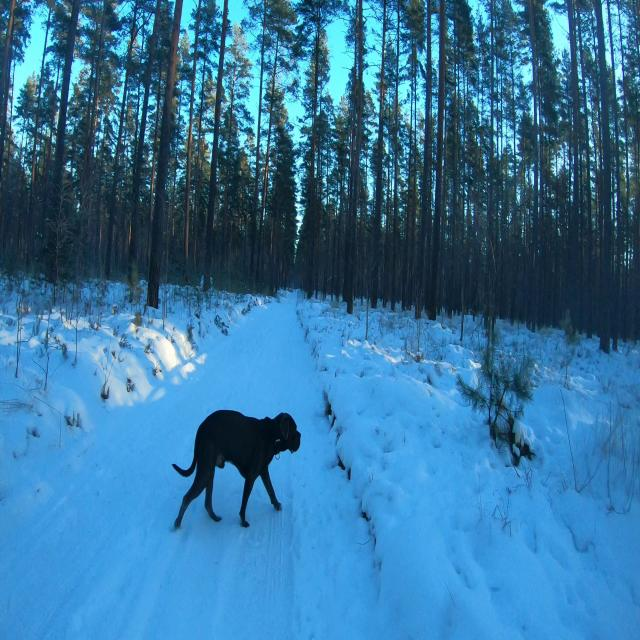bush: (456, 342, 535, 466), (61, 178, 92, 314), (3, 250, 56, 295), (164, 263, 189, 312), (16, 291, 23, 377)
trees: (298, 0, 341, 298), (147, 0, 182, 308), (128, 0, 161, 279), (105, 0, 138, 278), (47, 0, 80, 257), (592, 0, 613, 353), (204, 0, 228, 291), (255, 31, 280, 277), (404, 0, 424, 307), (428, 0, 447, 320), (607, 0, 624, 335), (29, 0, 54, 217), (249, 0, 267, 280), (566, 0, 583, 284), (348, 0, 363, 320), (344, 0, 359, 313), (371, 0, 386, 308), (184, 0, 201, 268), (219, 51, 240, 264), (420, 0, 431, 308), (85, 3, 106, 157), (0, 0, 16, 191), (618, 9, 631, 224), (391, 0, 400, 310), (528, 0, 539, 251), (488, 0, 497, 245), (195, 39, 208, 202), (172, 71, 183, 219), (450, 88, 459, 223), (510, 40, 517, 175), (457, 190, 464, 307), (461, 52, 468, 162), (244, 152, 251, 255), (500, 156, 508, 240), (9, 60, 16, 136), (494, 91, 502, 151), (454, 57, 460, 137), (364, 154, 368, 231), (458, 17, 471, 40), (480, 90, 484, 151), (19, 128, 24, 167), (454, 17, 458, 56), (365, 299, 368, 340), (555, 141, 558, 178), (241, 184, 243, 232), (524, 156, 525, 244), (326, 169, 328, 207), (456, 140, 461, 154), (86, 158, 92, 168), (463, 165, 467, 179), (453, 0, 456, 14), (496, 78, 499, 89), (7, 141, 10, 151), (496, 57, 498, 70)
